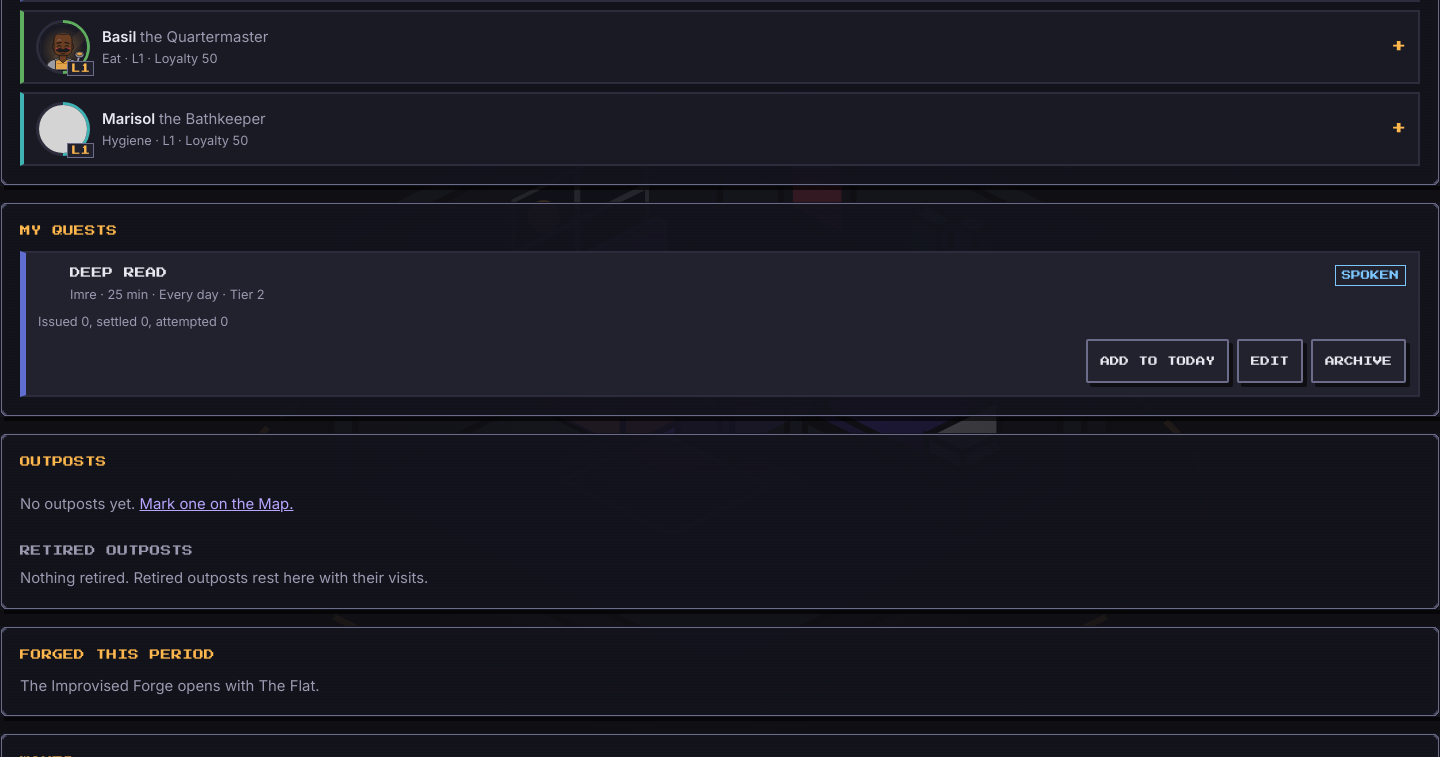
Test: Ledger: editing a quest of your own › opens the Compose sheet prefilled, in edit mode, with the same reward preview
(page scrolled)
Click the button "Edit".
click(1270, 361)  # box top-left (1237, 339), bottom-right (1303, 383)
(page scrolled)
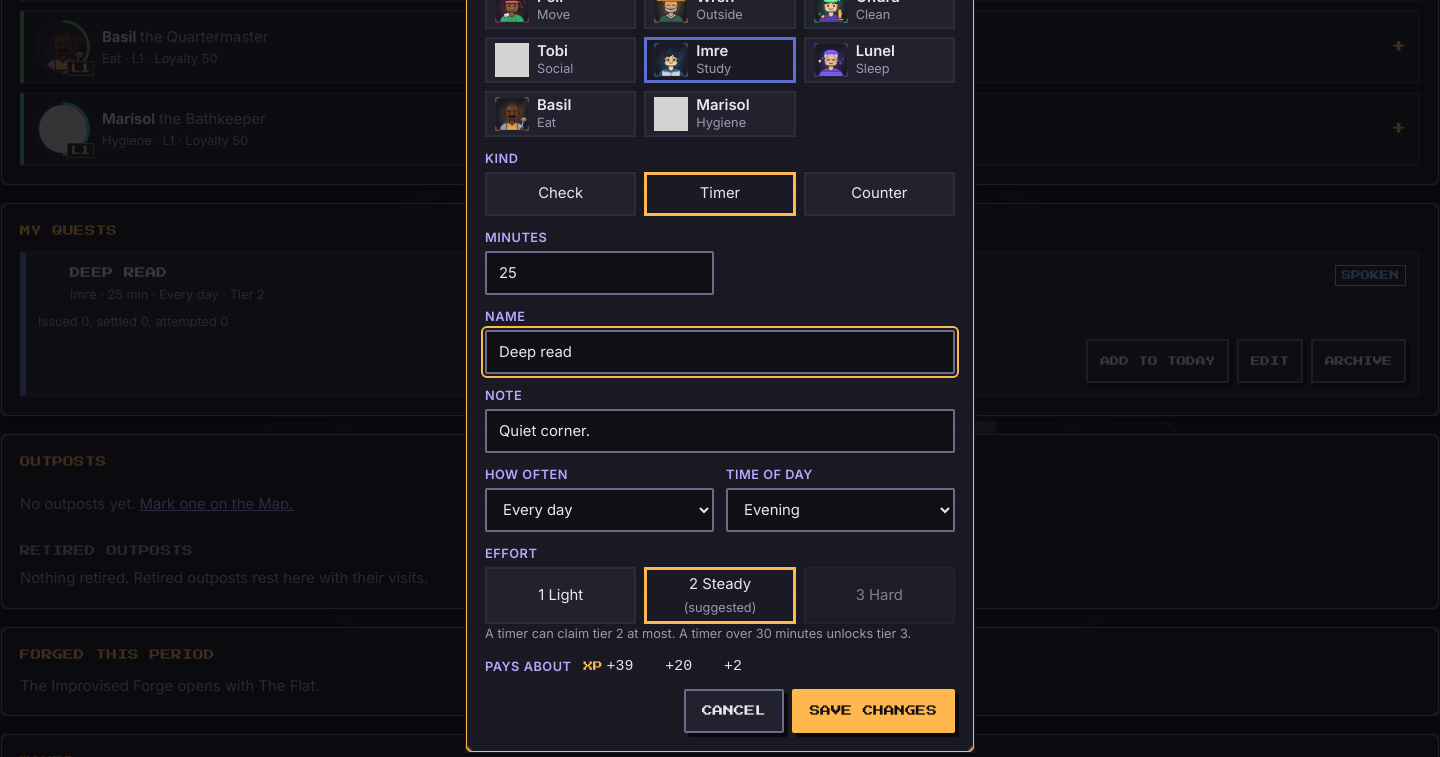
Result: the field labelled "Name" holds "Deep read" at top-left (485, 330), bottom-right (955, 374)
Result: the field labelled "Note" holds "Quiet corner." at top-left (485, 409), bottom-right (955, 453)
Result: the number field labelled "Minutes" holds "25" at top-left (485, 251), bottom-right (714, 295)
